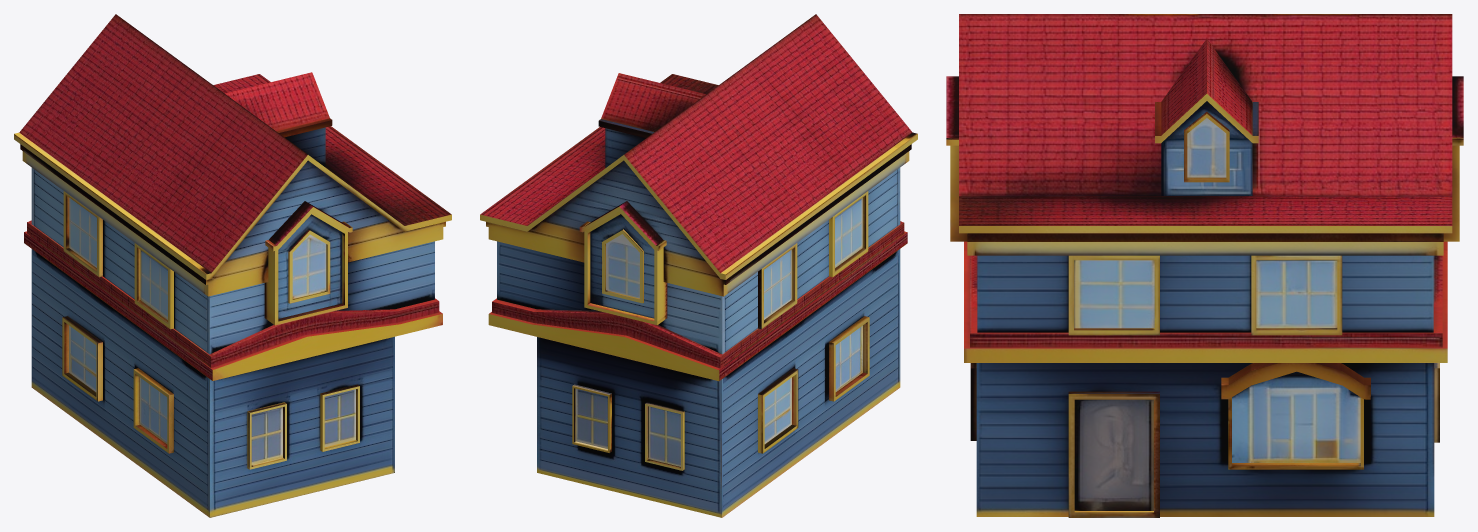
3 views of the same model, side by side, from view 1: azimuth 30°, elevation 25°; view 2: azimuth 150°, elevation 25°; view 3: azimuth 270°, elevation 25° (orthographic). The views are drawn at different scales.
Parts seen in each view (by area): view 1: model; view 2: model; view 3: model.
Part boxes in pixels (x1,y1,x2,y2): model: [14, 14, 451, 517]; model: [480, 14, 917, 517]; model: [946, 14, 1463, 517].
Size of the model in its own units: 0.703 by 0.9468 by 1.
Materials: 1 (1 with a texture image).
